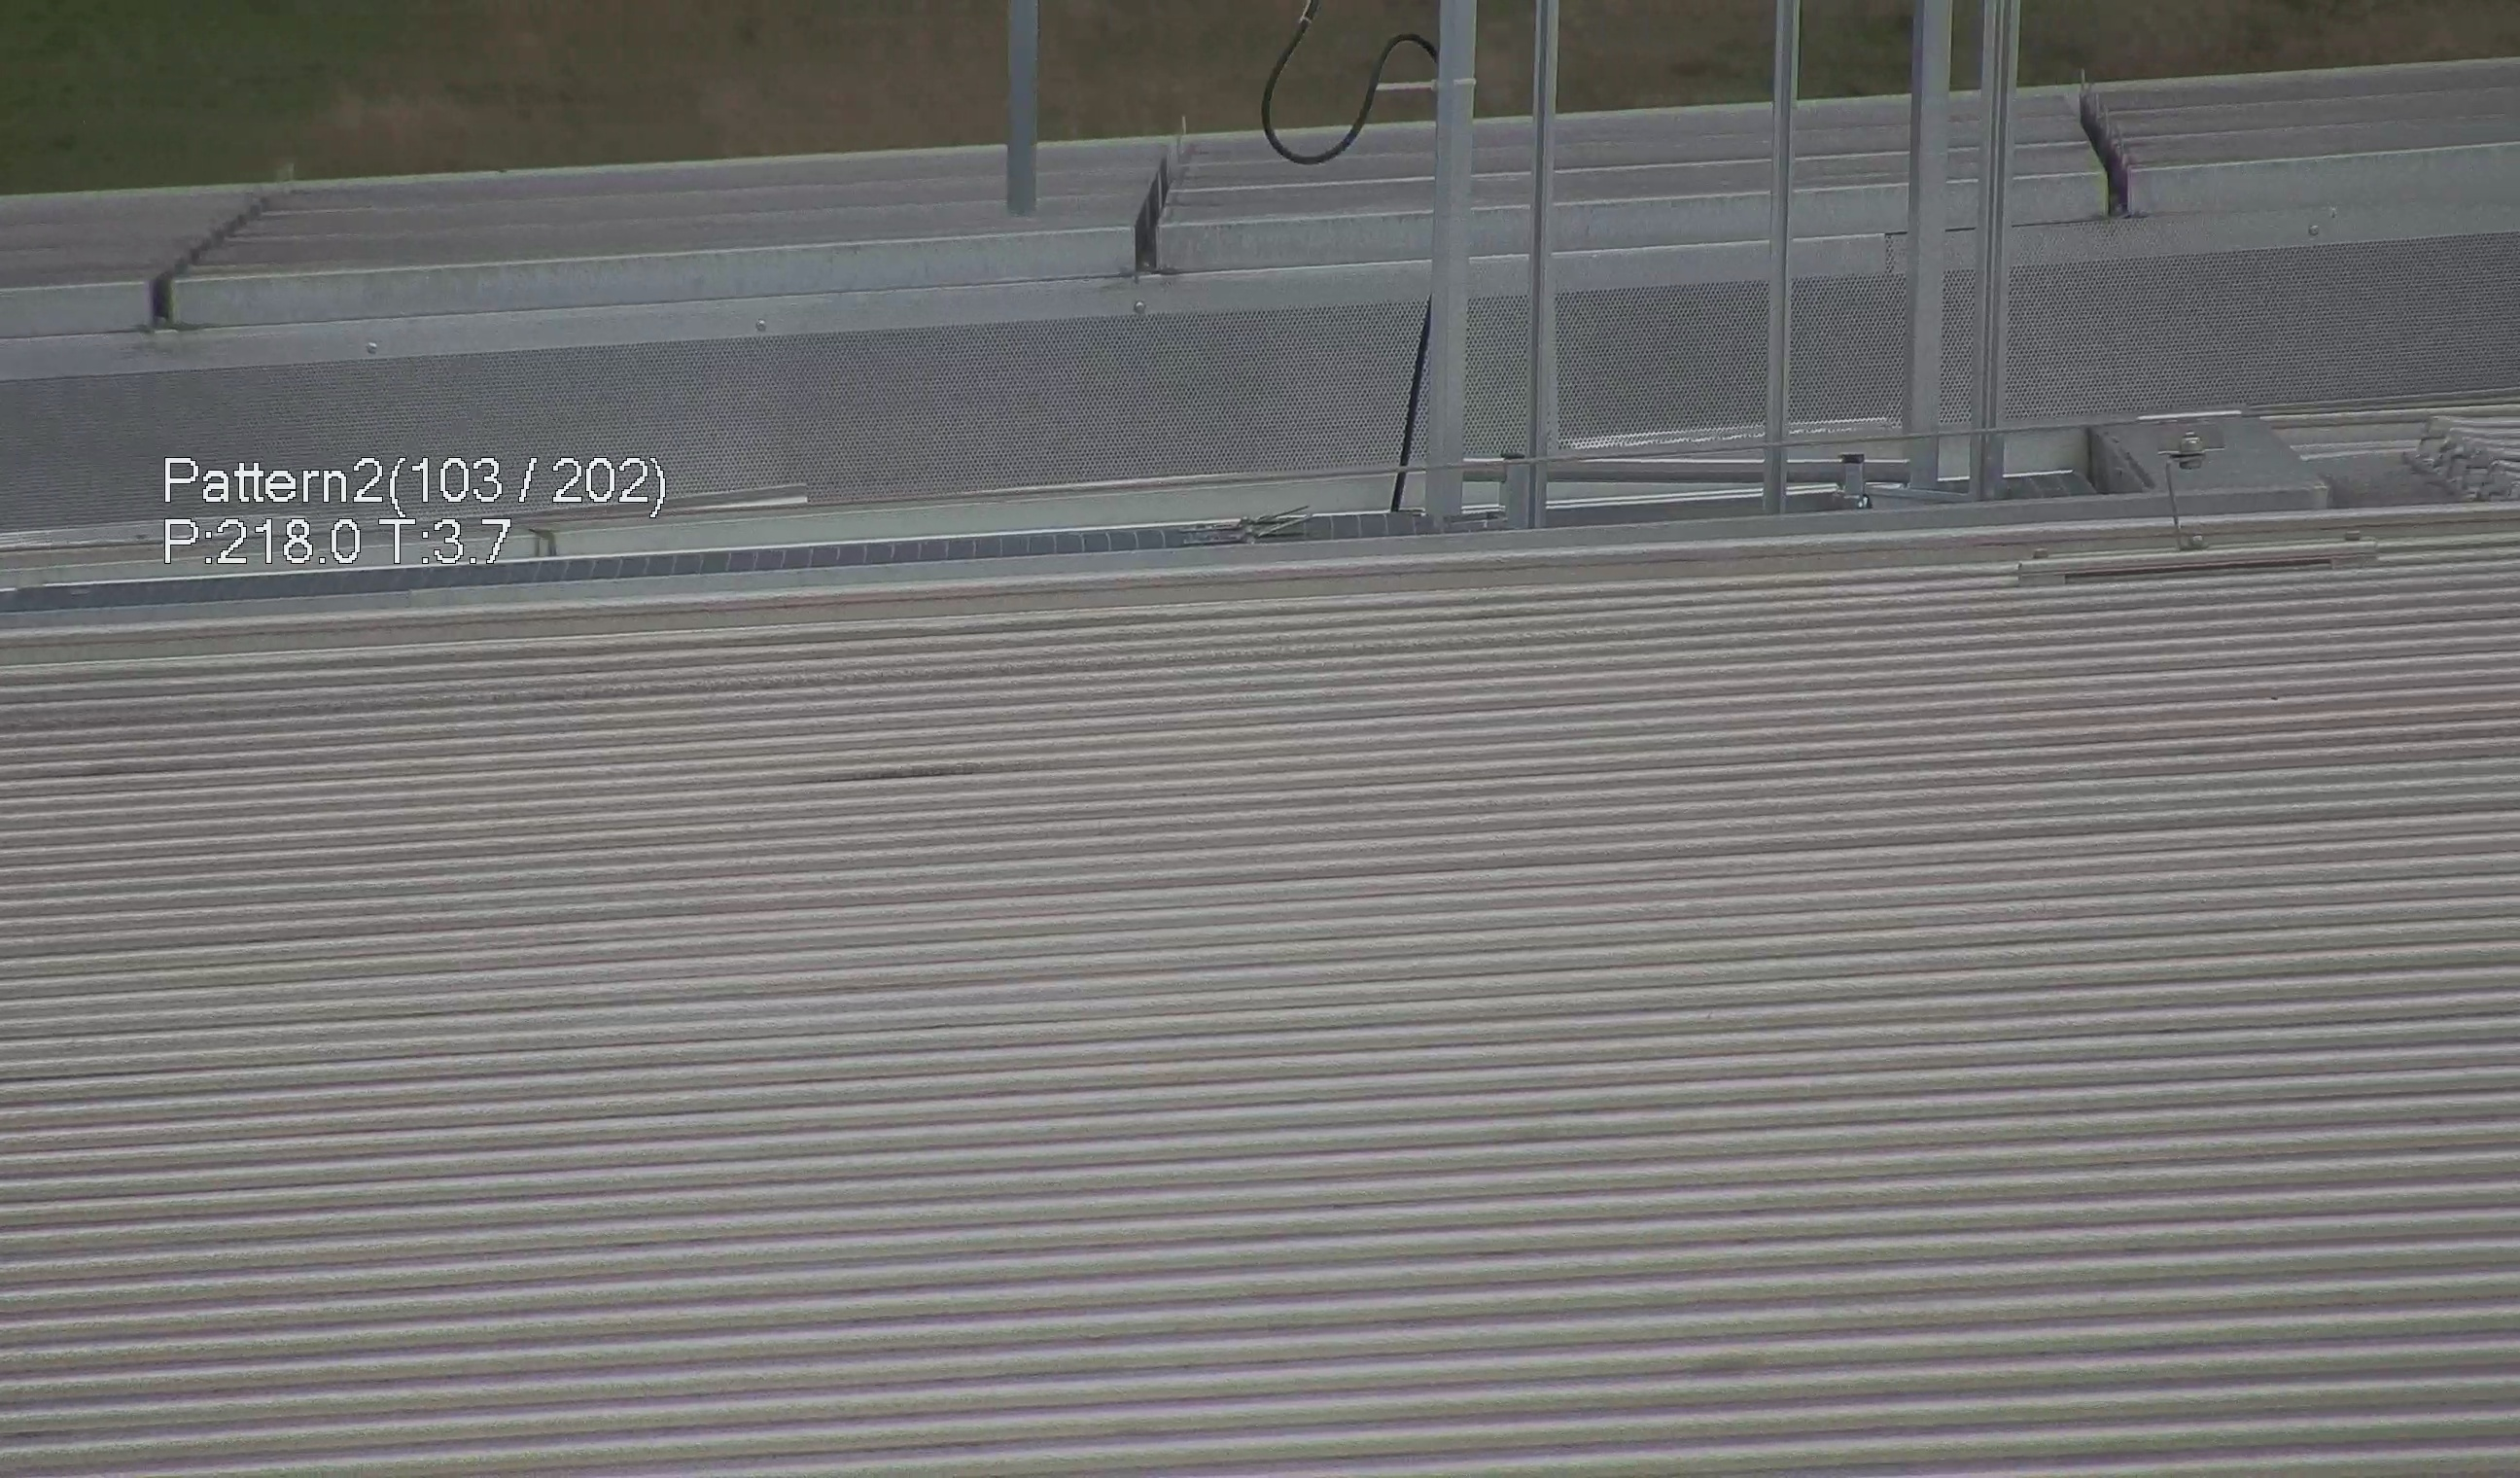Other: (2058, 74, 2156, 223)
